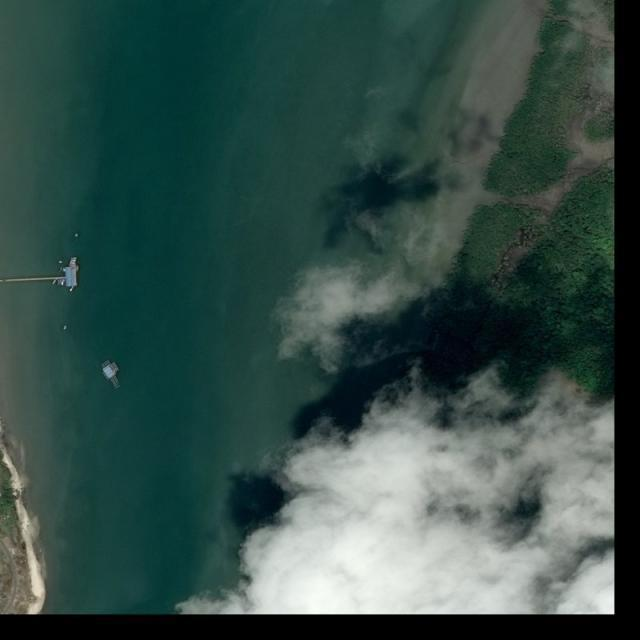ship: (70, 257, 77, 260), (58, 261, 63, 265), (63, 325, 67, 330), (70, 262, 76, 265), (69, 265, 78, 267), (74, 234, 78, 238), (70, 260, 77, 262), (70, 259, 74, 261)
